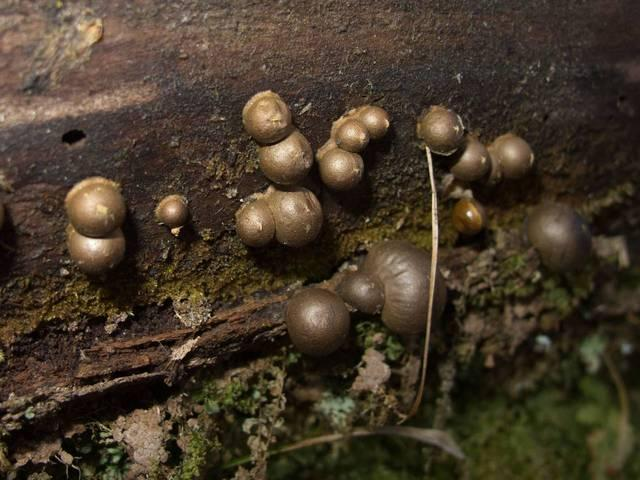Non-edible Mushroom: (229, 99, 410, 248), (357, 238, 447, 336), (240, 89, 313, 185), (62, 174, 127, 276), (524, 200, 592, 274), (283, 286, 350, 357), (448, 135, 488, 236), (241, 89, 292, 143), (415, 104, 465, 156), (488, 131, 535, 181), (153, 193, 190, 236)
